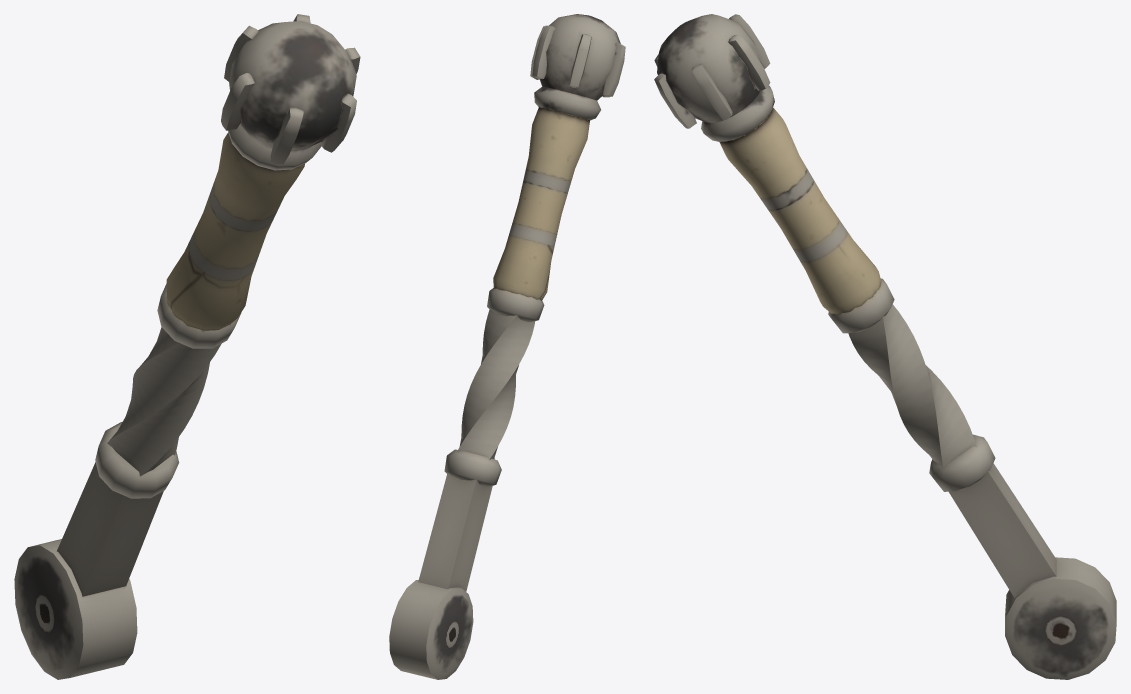
The model's file is lever_handle.glb.
3 renders of one model, left to right at view 1: azimuth 30°, elevation 25°; view 2: azimuth 150°, elevation 25°; view 3: azimuth 270°, elevation 25°, orthographic. The views are drawn at different scales.
Visible parts, largest first — view 1: lever_handle; view 2: lever_handle; view 3: lever_handle.
Boxes of the visible parts, x1,y1,x2,y2 form: lever_handle: [14, 14, 360, 679]; lever_handle: [389, 14, 625, 679]; lever_handle: [654, 14, 1116, 679].
Bounding box in the file's own units: 0.1235 × 0.7626 × 0.4924.
1 material, 1 textured.
